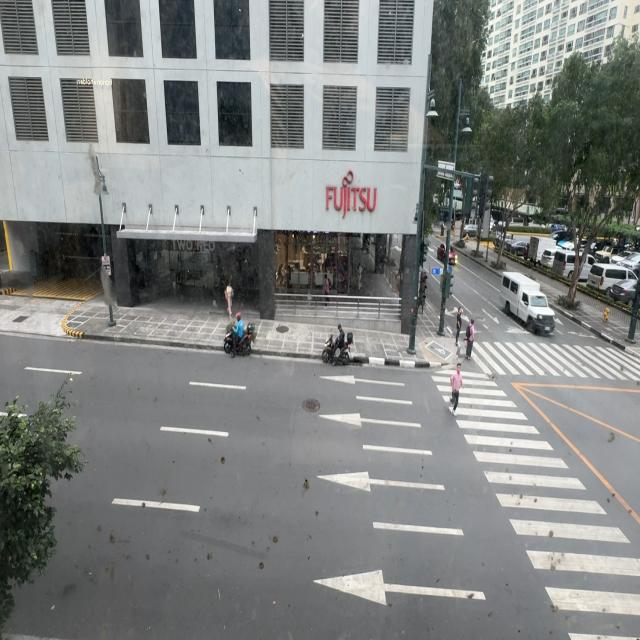crossing: (450, 363, 464, 414)
pedestrain: (224, 280, 234, 320)
waiting: (465, 318, 474, 359), (455, 307, 463, 349)
